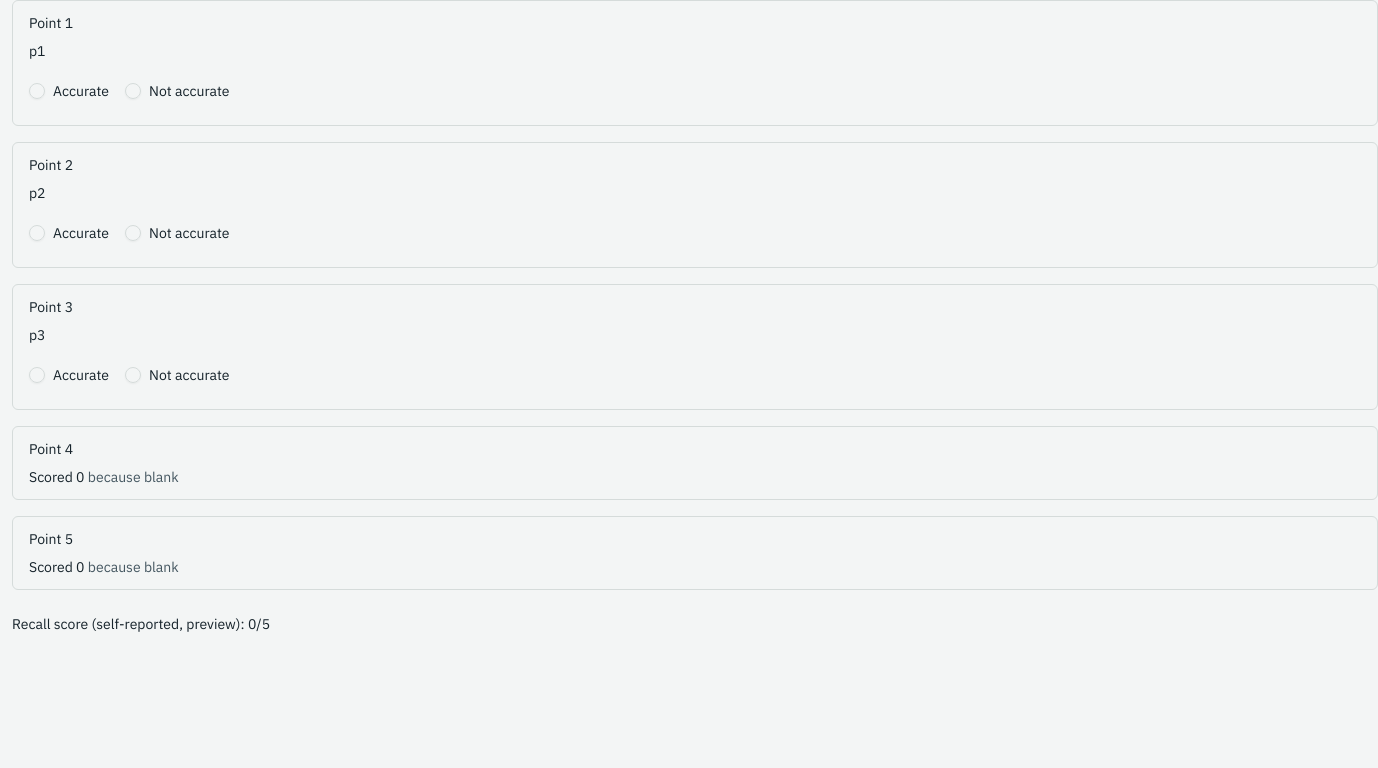
Test: Scoring › points 1–3 Accurate with 4–5 blank yields preview 3, two Scored 0 because blank and no radios for the blanks
Click the 1st radio button named "Accurate" at (37, 91), box [29, 83, 45, 99]
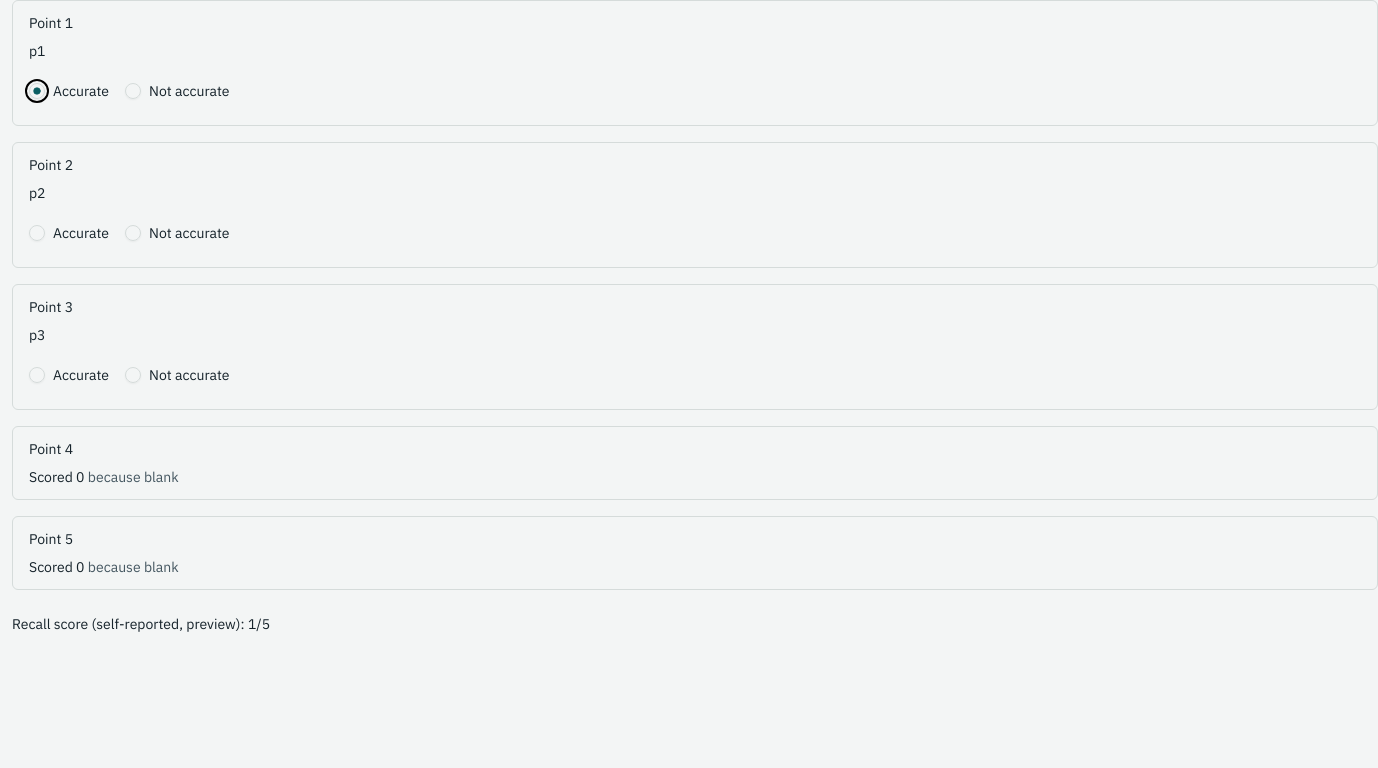
Click the 3rd radio button named "Accurate" at (37, 233), box [29, 225, 45, 241]
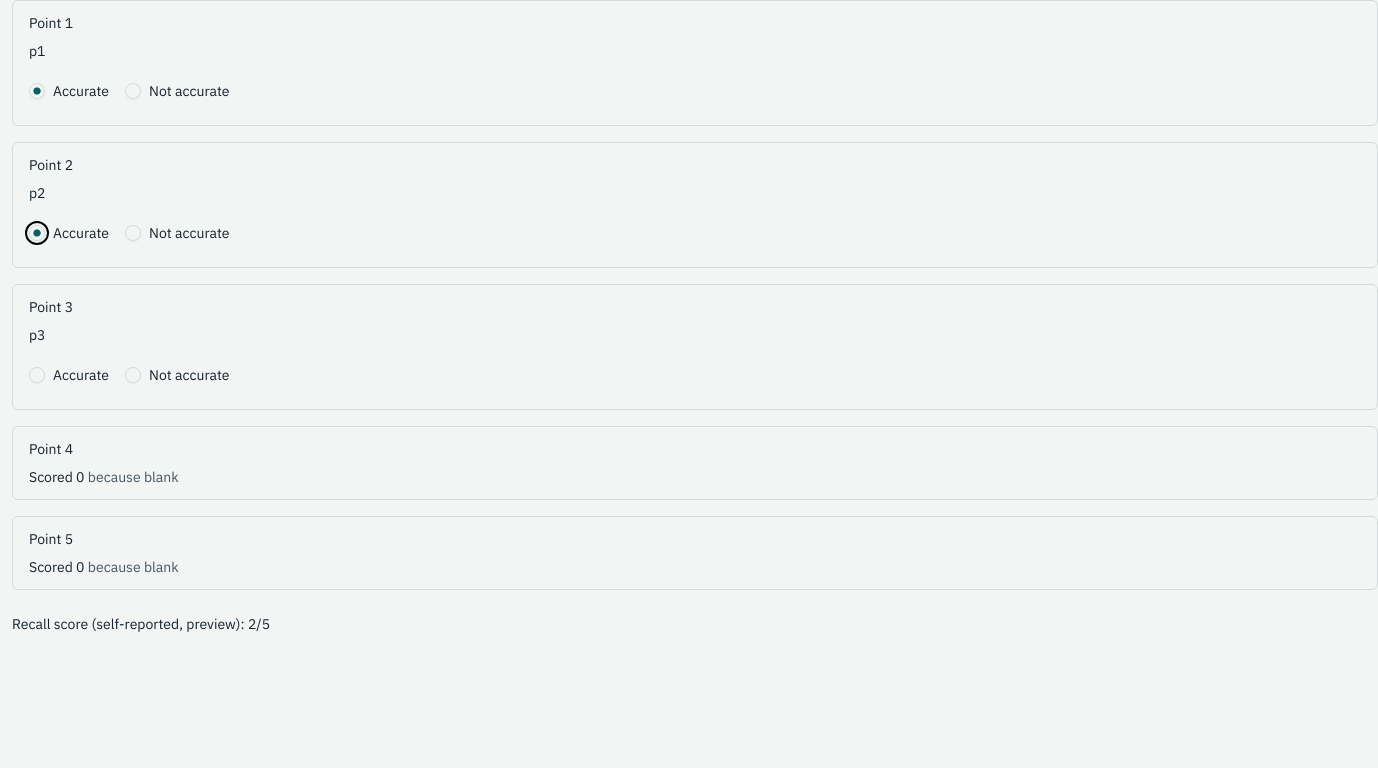
Click the 5th radio button named "Accurate" at (37, 375), box [29, 367, 45, 383]
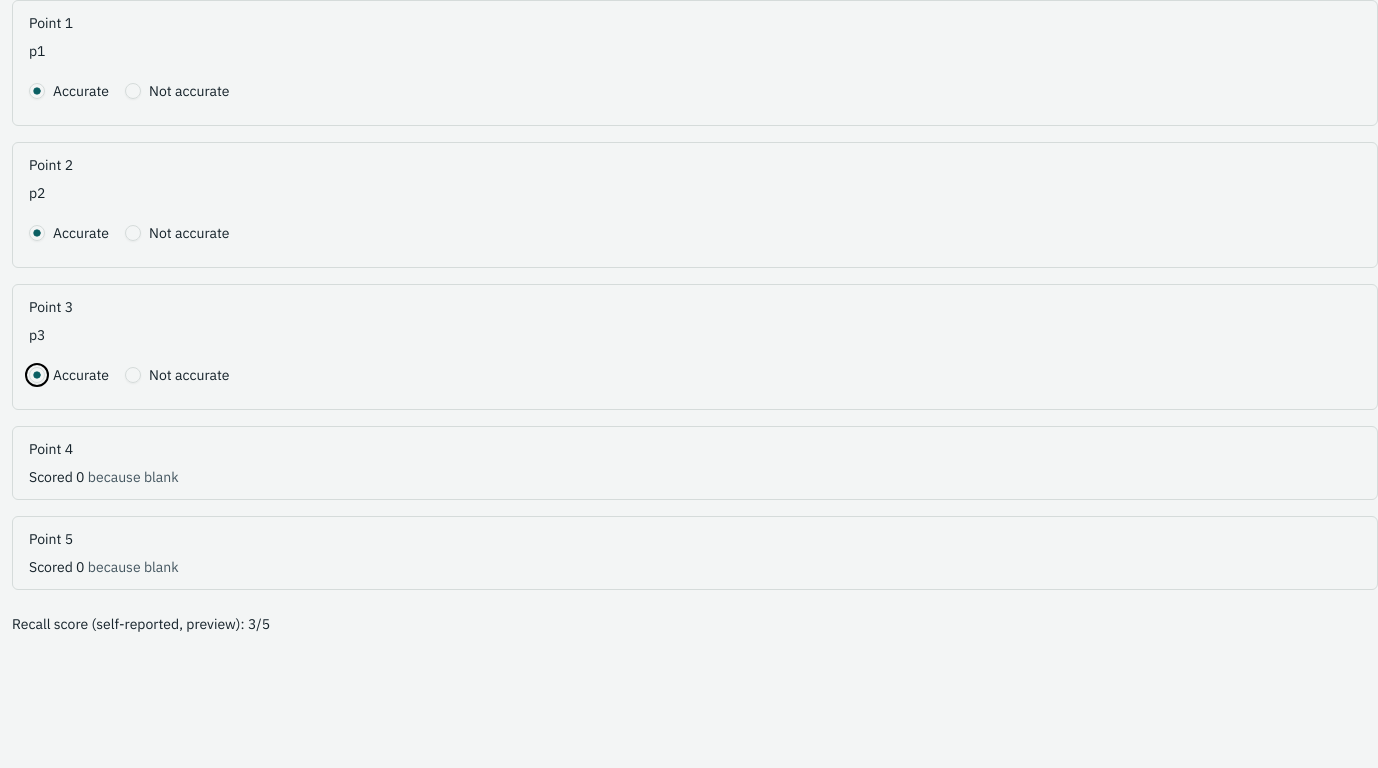
Expected: the text "Scored 0" is shown 2 times, [29, 468, 84, 486]; [29, 558, 84, 576]
Result: the text "Recall score (self-reported, preview): 3/5" is shown at [12, 615, 270, 633]
